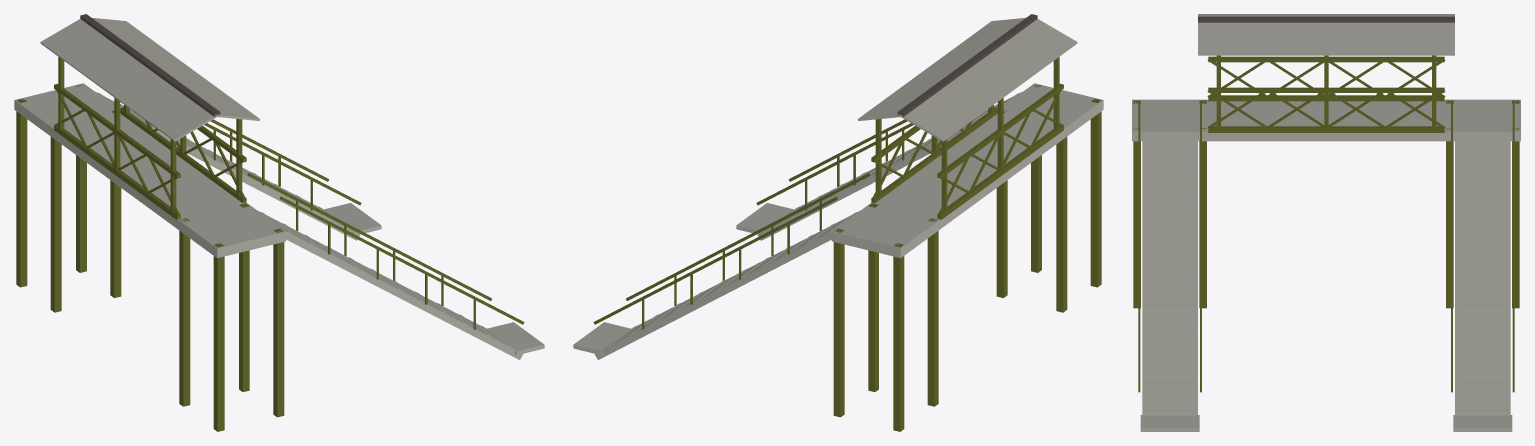
File: SM_KitPaso_v3_LOD0.fbx
The picture shows the model from 3 angles, left to right: view 1: azimuth 30°, elevation 25°; view 2: azimuth 150°, elevation 25°; view 3: azimuth 270°, elevation 25°; orthographic projection. The views are drawn at different scales.
Parts seen in each view (by area): view 1: SM_bloques.kit_paso_v3_LOD0; view 2: SM_bloques.kit_paso_v3_LOD0; view 3: SM_bloques.kit_paso_v3_LOD0.
Boxes of the visible parts, x1,y1,x2,y2 form: SM_bloques.kit_paso_v3_LOD0: [14, 14, 544, 431]; SM_bloques.kit_paso_v3_LOD0: [573, 14, 1103, 431]; SM_bloques.kit_paso_v3_LOD0: [1132, 14, 1520, 431].
Bounding box in the file's own units: 10.86 × 8.93 × 11.2.
